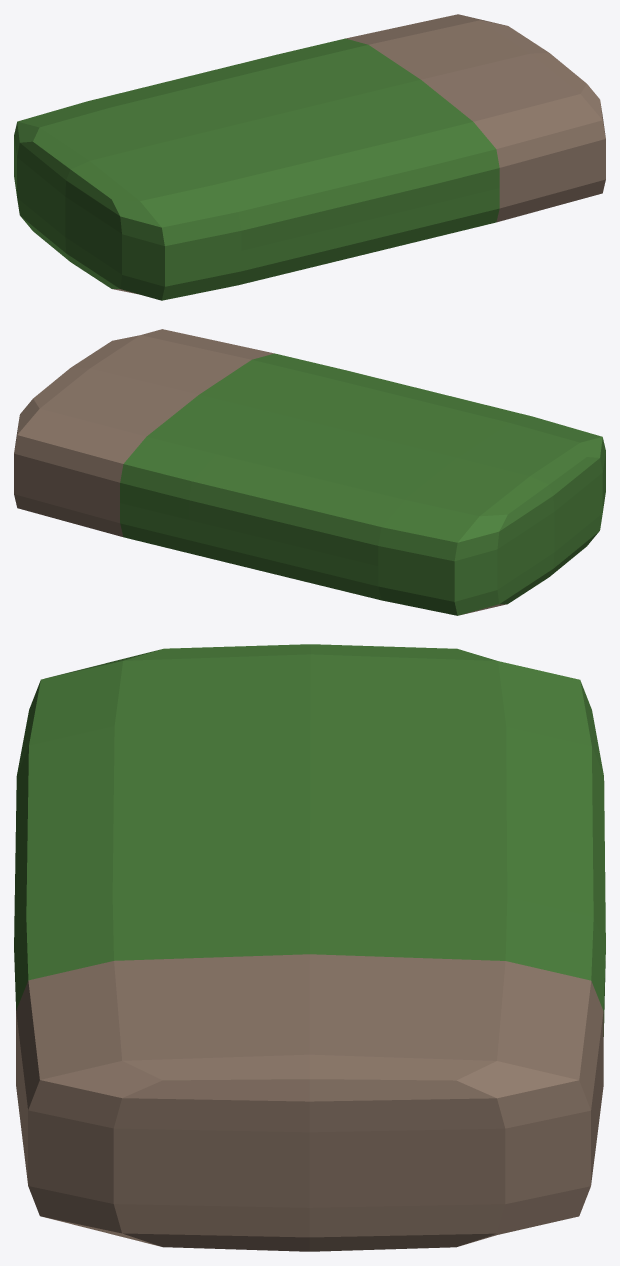
The model's file is CementC1_02.fbx.
The picture shows the model from 3 angles, top to bottom: view 1: azimuth 30°, elevation 25°; view 2: azimuth 150°, elevation 25°; view 3: azimuth 270°, elevation 25°; orthographic projection. The views are drawn at different scales.
Visible parts, largest first — view 1: CementC1_02; view 2: CementC1_02; view 3: CementC1_02.
Boxes of the visible parts, x1=… form: CementC1_02: x1=14, y1=14, x2=605, y2=300; CementC1_02: x1=14, y1=329, x2=605, y2=615; CementC1_02: x1=14, y1=644, x2=605, y2=1251.
Bounding box in the file's own units: 64.29 × 12.76 × 36.21.
